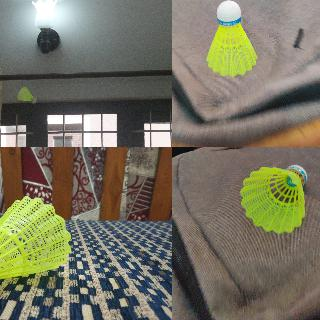shuttlecock: (0, 195, 71, 298), (240, 164, 306, 233), (206, 0, 256, 78), (16, 87, 36, 103)
